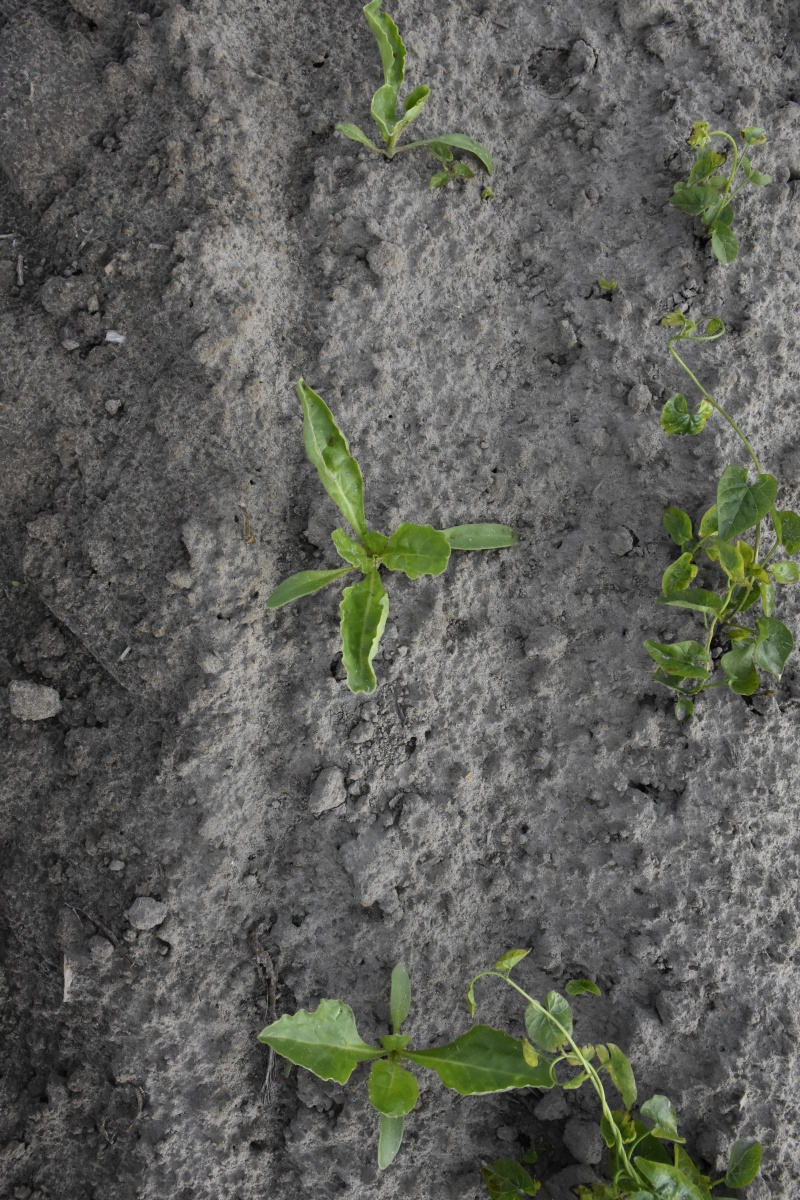field bindweed: (633, 295, 800, 715), (491, 956, 770, 1200), (674, 108, 788, 281)
sugar beet: (260, 372, 527, 695), (257, 962, 558, 1158), (317, 5, 504, 188)
